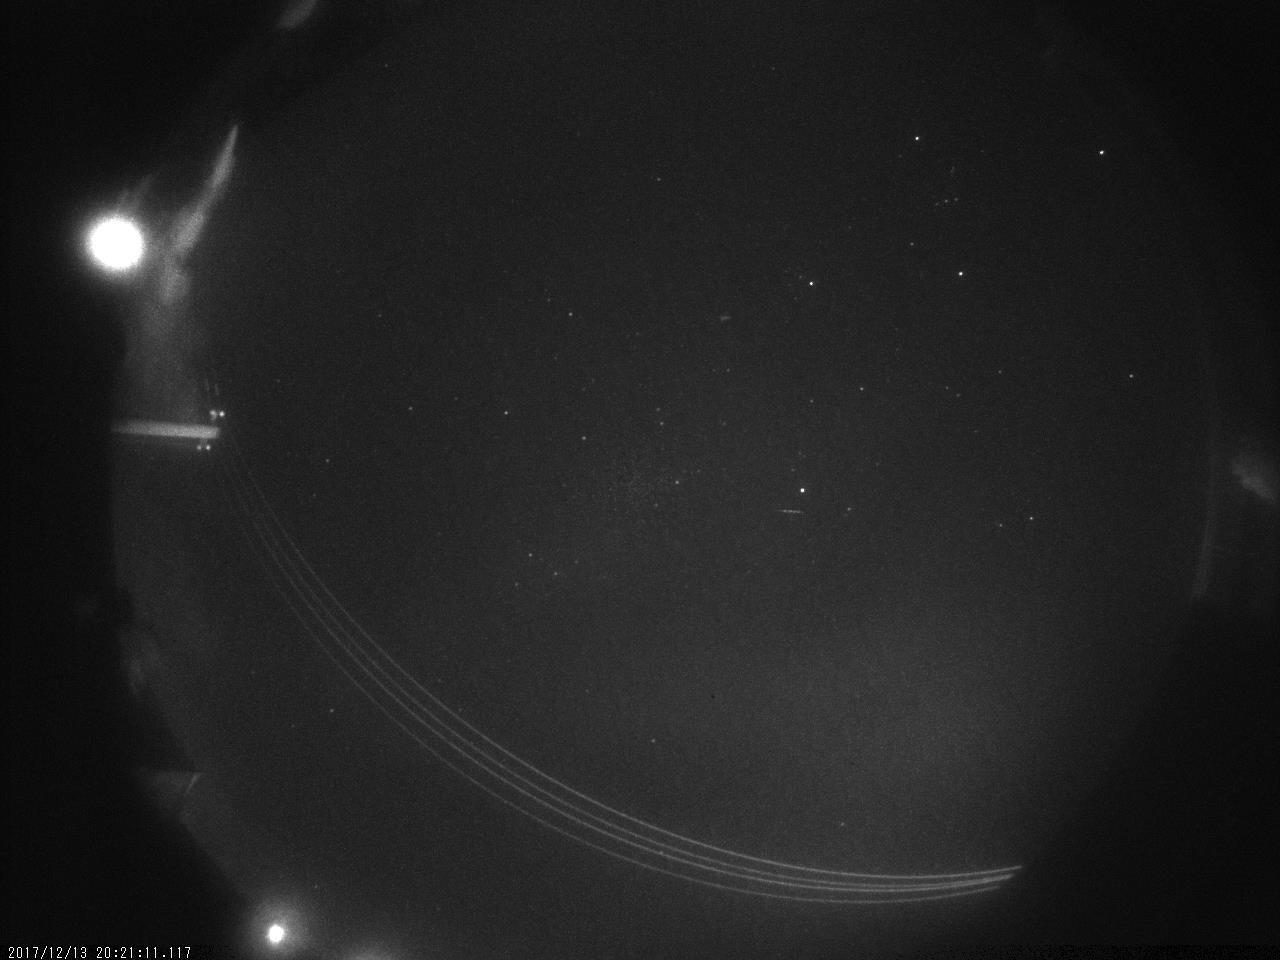Meteor: (770, 504, 810, 520)
